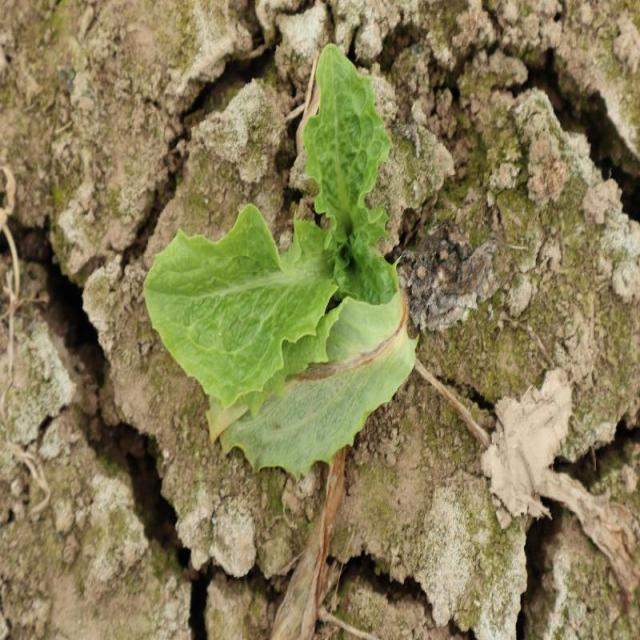crop: (142, 40, 420, 478)
